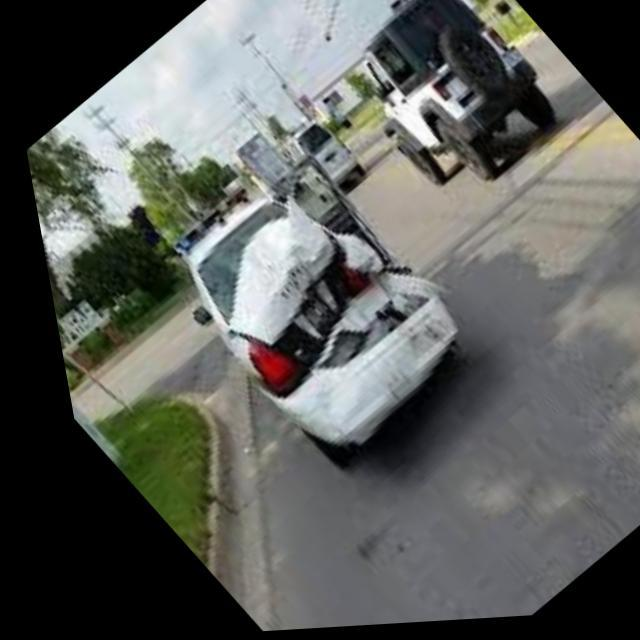dislocated part: (213, 201, 443, 439)
